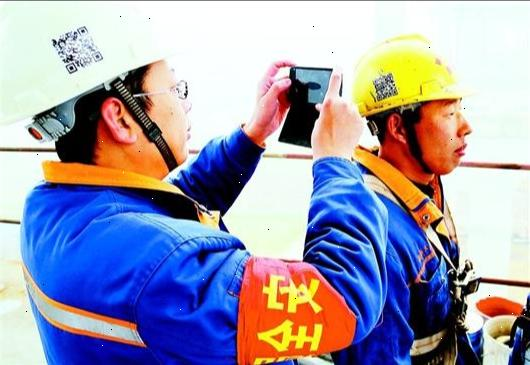helmet: (0, 8, 176, 121), (350, 30, 475, 118)
wear: (18, 190, 266, 365), (323, 183, 461, 365)
